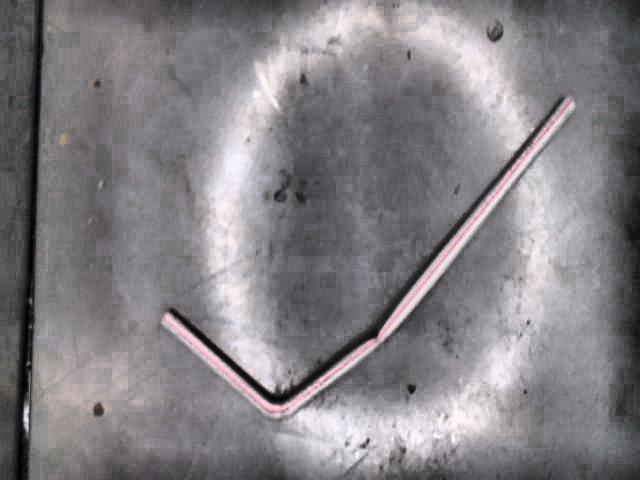Plastic: (157, 95, 581, 422)
